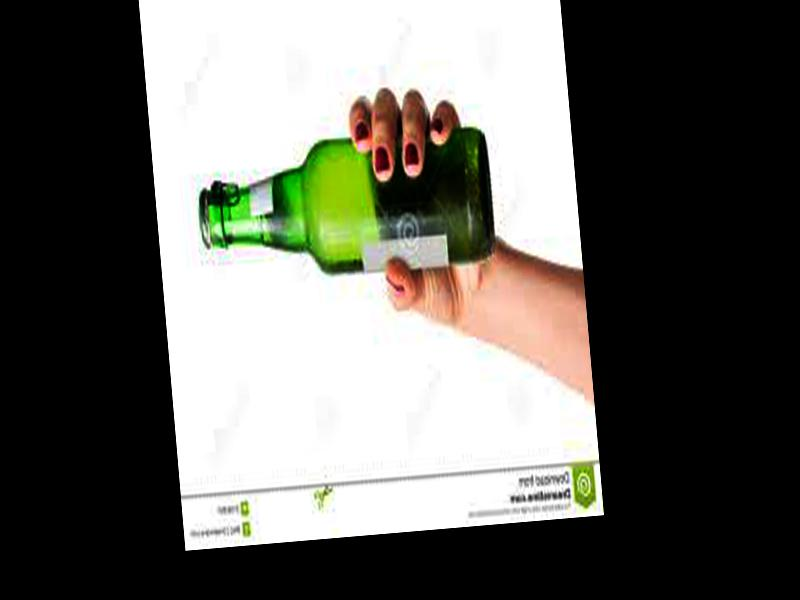Beer: (192, 126, 497, 290)
